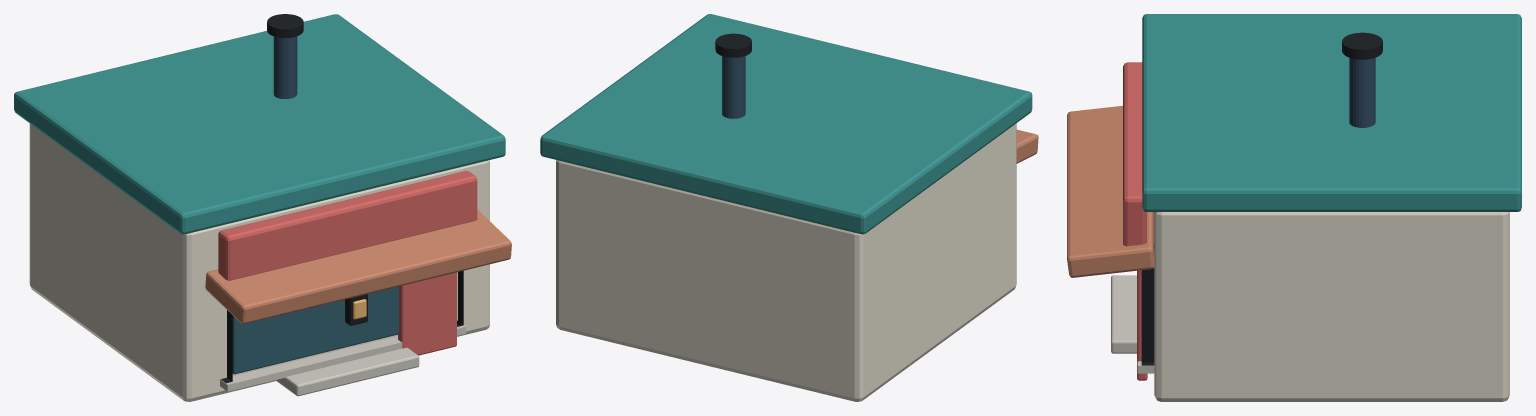
The model's file is COM_LOW_1x1_001.glb.
3 renders of one model, left to right at view 1: azimuth 30°, elevation 25°; view 2: azimuth 150°, elevation 25°; view 3: azimuth 270°, elevation 25°, orthographic. The views are drawn at different scales.
Parts seen in each view (by area): view 1: COM_LOW_1x1_001_Visual; view 2: COM_LOW_1x1_001_Visual; view 3: COM_LOW_1x1_001_Visual.
Boxes of the visible parts, <box> form: COM_LOW_1x1_001_Visual: <box>14,14,511,401</box>; COM_LOW_1x1_001_Visual: <box>540,14,1038,401</box>; COM_LOW_1x1_001_Visual: <box>1067,14,1521,401</box>.
Size of what is drawn, in the model's own units: 1.75 by 1.38 by 1.89.
